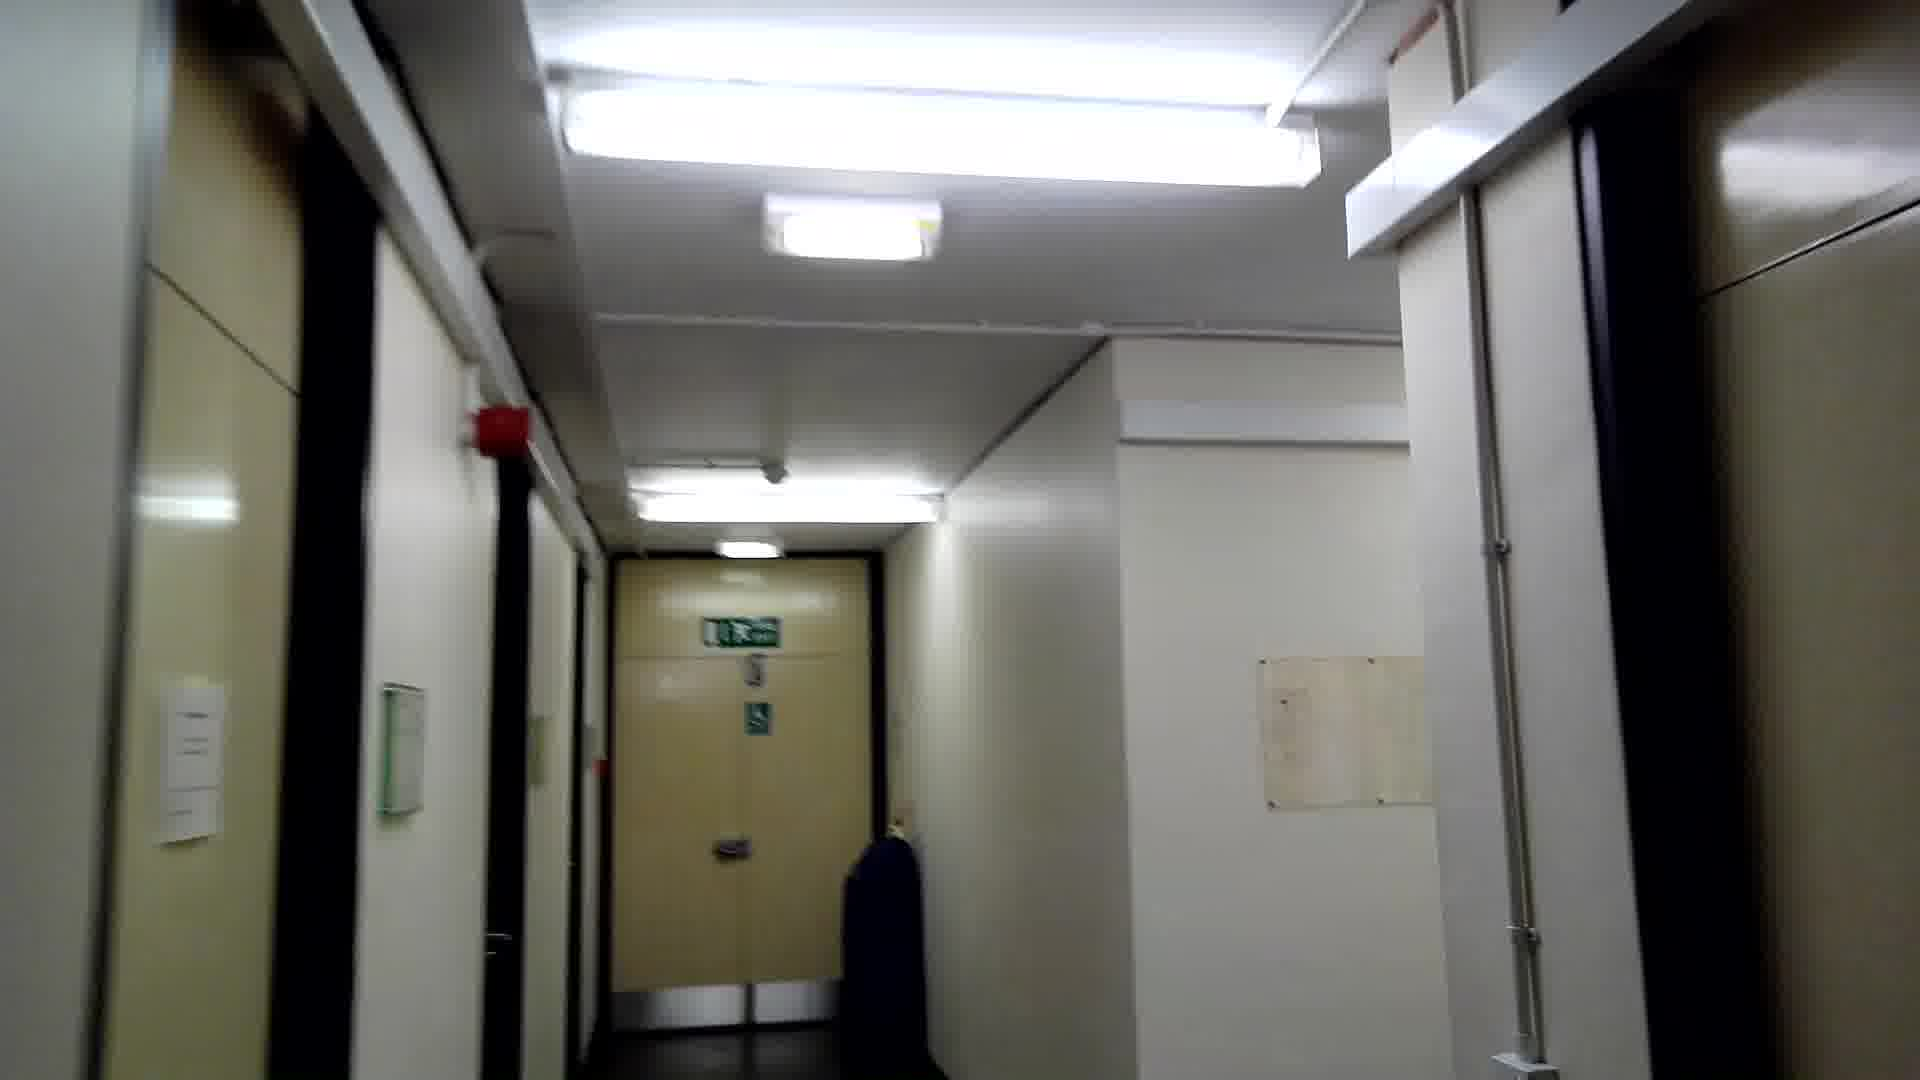Bin: (845, 816, 936, 1065)
Door: (87, 73, 386, 1080)
